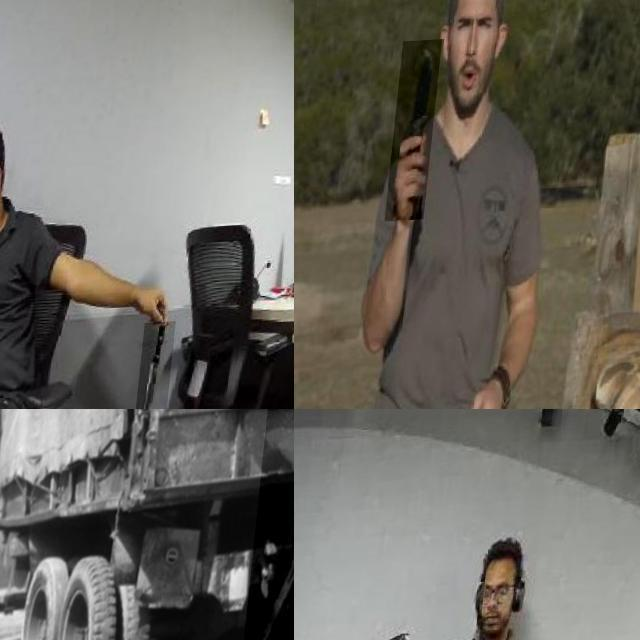-: (390, 42, 444, 224), (147, 325, 186, 409)
gun-knife-thesis - v11 Yolov5 augmented: (249, 409, 294, 640)
